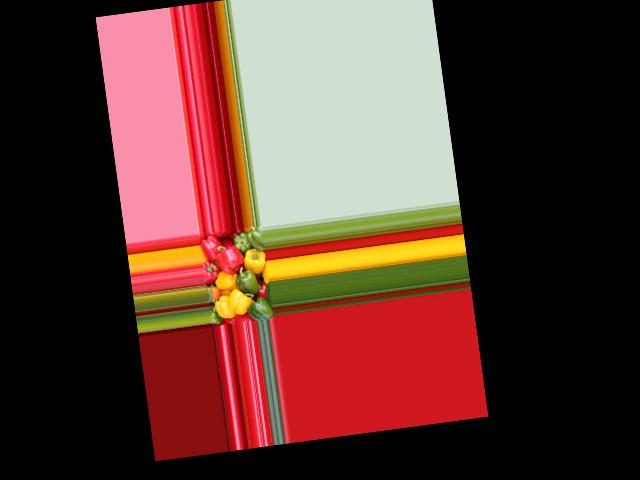bell_pepper: (208, 302, 221, 324)
